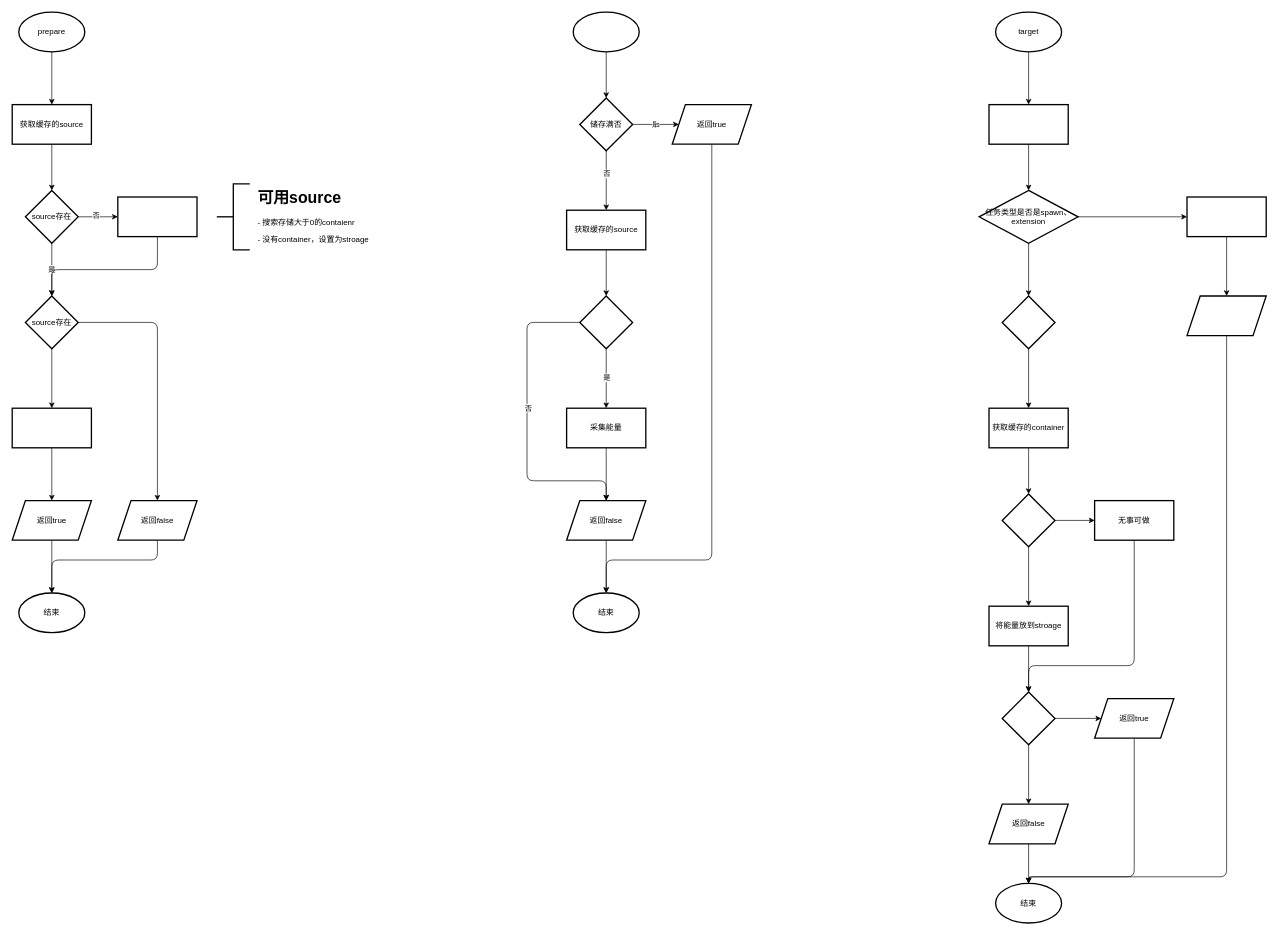
Image size: 1278x935. Some labels were removed from this diagram. The shapes that lost their labels are listed below. From the top down, each one's box as (x1, y1, x2, y2) in pixels, then its label:
(572, 11, 640, 52): source
(988, 104, 1069, 145): 获取房间物流任务
(117, 196, 197, 237): 搜索可用source
(1186, 196, 1267, 237): 执行任务的target
(579, 295, 633, 349): source存在否
(1001, 295, 1055, 349): 房间是否存在storage
(1186, 295, 1267, 336): 返回任务处理结果
(11, 407, 92, 448): 缓存source
(1001, 493, 1055, 547): source存储大于0
(1001, 691, 1055, 745): 存储空了
